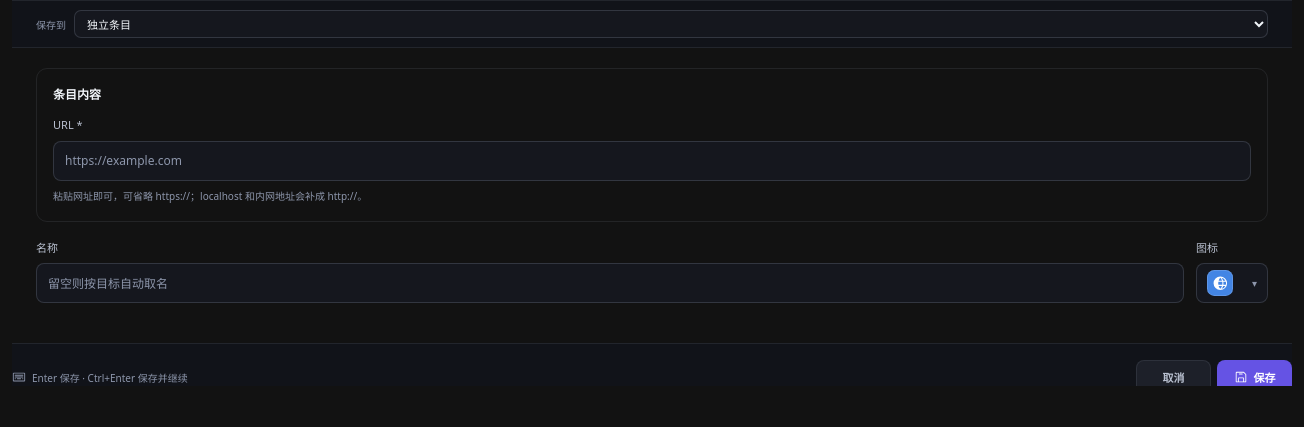
Scenario: ItemForm validation › a missing target › is explained under the websites field and takes the cursor
In the field with test id "item-name-input": (610, 283) 36,263 -> 1184,303, type "Thing"
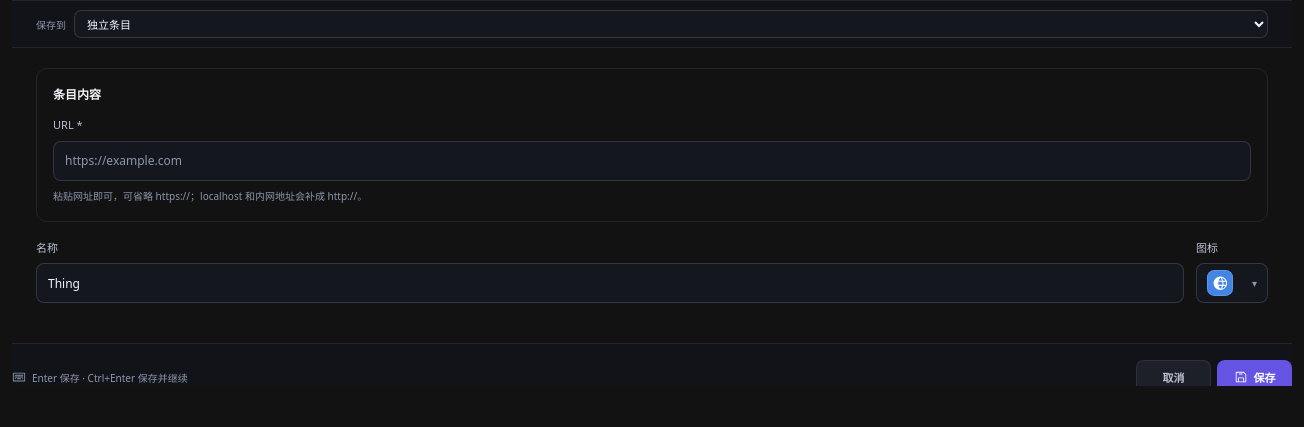
Click the button with test id "item-save": (1254, 377) 1217,360 -> 1292,394
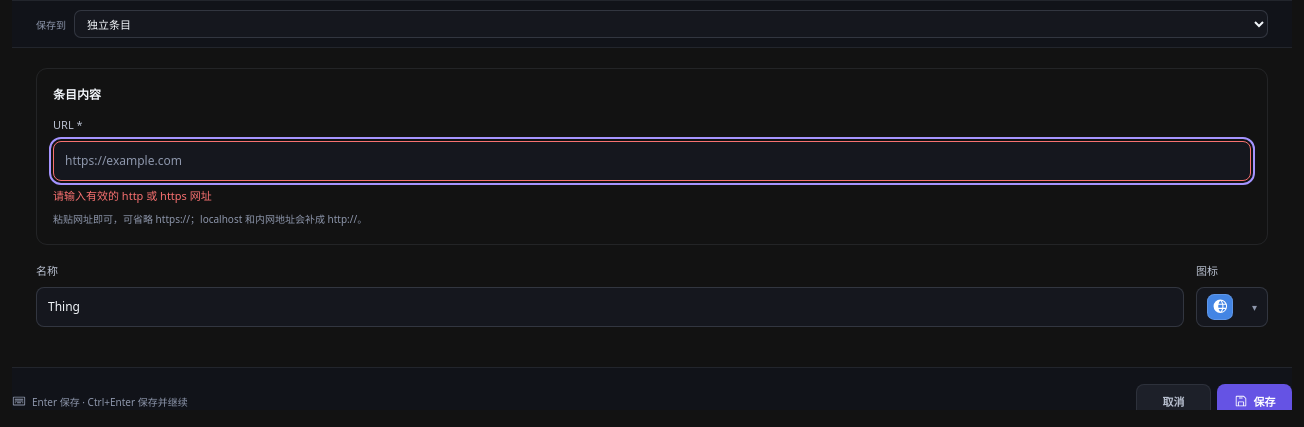
Check: the message reads "请输入有效的 http 或 https 网址", box 53,188 -> 212,202
